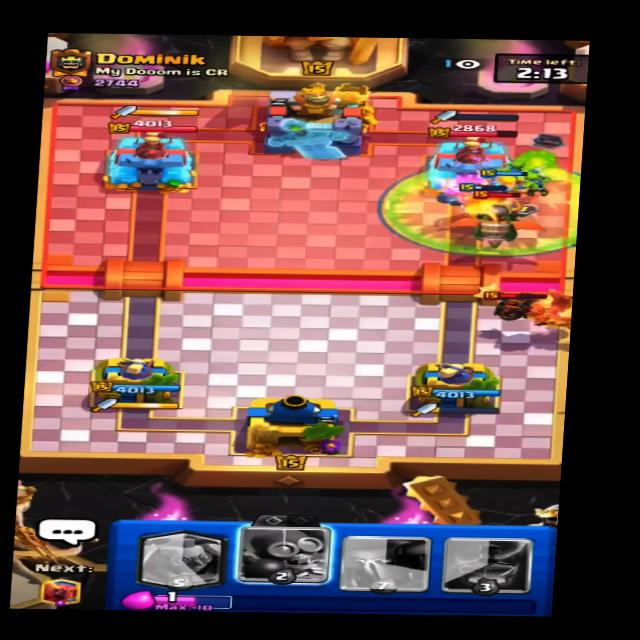inferno-dragon: (466, 195, 525, 244)
lava-hound: (476, 280, 554, 324)
